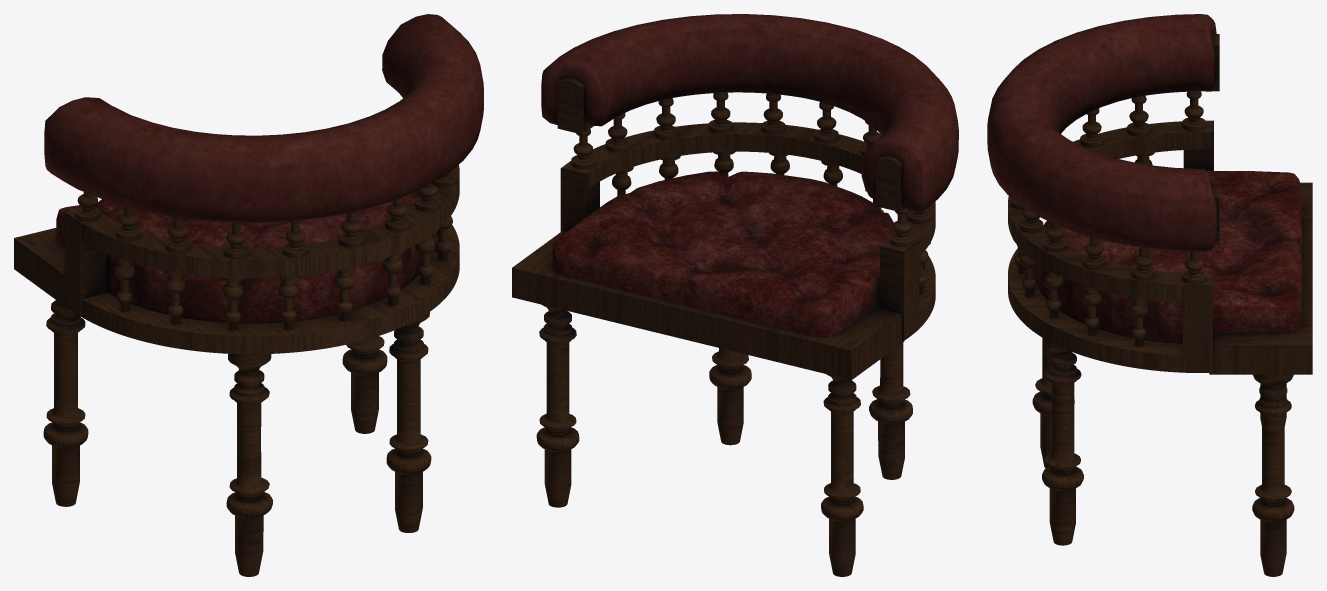
Rendered from chair.glb.
The picture shows the model from 3 angles, left to right: view 1: azimuth 30°, elevation 25°; view 2: azimuth 150°, elevation 25°; view 3: azimuth 270°, elevation 25°; orthographic projection. The views are drawn at different scales.
Visible parts, largest first — view 1: Leather Top, Chair Arc, Wood Legs, Leather Seating, Chair Details, Wood Front; view 2: Leather Seating, Leather Top, Wood Front, Wood Legs, Chair Arc, Chair Details; view 3: Leather Top, Leather Seating, Chair Arc, Wood Legs, Wood Front, Chair Details.
Boxes of the visible parts, x1=… form: Leather Top: x1=44, y1=14, x2=483, y2=222; Chair Arc: x1=66, y1=165, x2=459, y2=354; Wood Legs: x1=43, y1=300, x2=431, y2=576; Leather Seating: x1=56, y1=192, x2=420, y2=323; Chair Details: x1=75, y1=172, x2=455, y2=331; Wood Front: x1=14, y1=191, x2=420, y2=315; Leather Seating: x1=552, y1=171, x2=895, y2=336; Leather Top: x1=541, y1=14, x2=958, y2=213; Wood Front: x1=512, y1=78, x2=919, y2=380; Wood Legs: x1=536, y1=304, x2=912, y2=576; Chair Arc: x1=562, y1=91, x2=935, y2=340; Chair Details: x1=571, y1=92, x2=931, y2=294; Leather Top: x1=987, y1=14, x2=1216, y2=251; Leather Seating: x1=1034, y1=171, x2=1302, y2=343; Chair Arc: x1=1008, y1=90, x2=1212, y2=372; Wood Legs: x1=1032, y1=338, x2=1294, y2=576; Wood Front: x1=1182, y1=34, x2=1312, y2=374; Chair Details: x1=1010, y1=91, x2=1205, y2=346.
Bounding box in the file's own units: 0.9744 × 1 × 0.7238.
6 materials, 6 textured.
